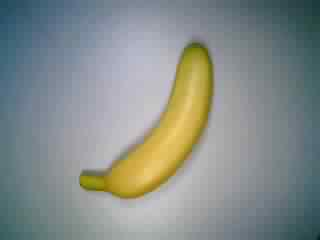banana: (75, 39, 217, 197)
